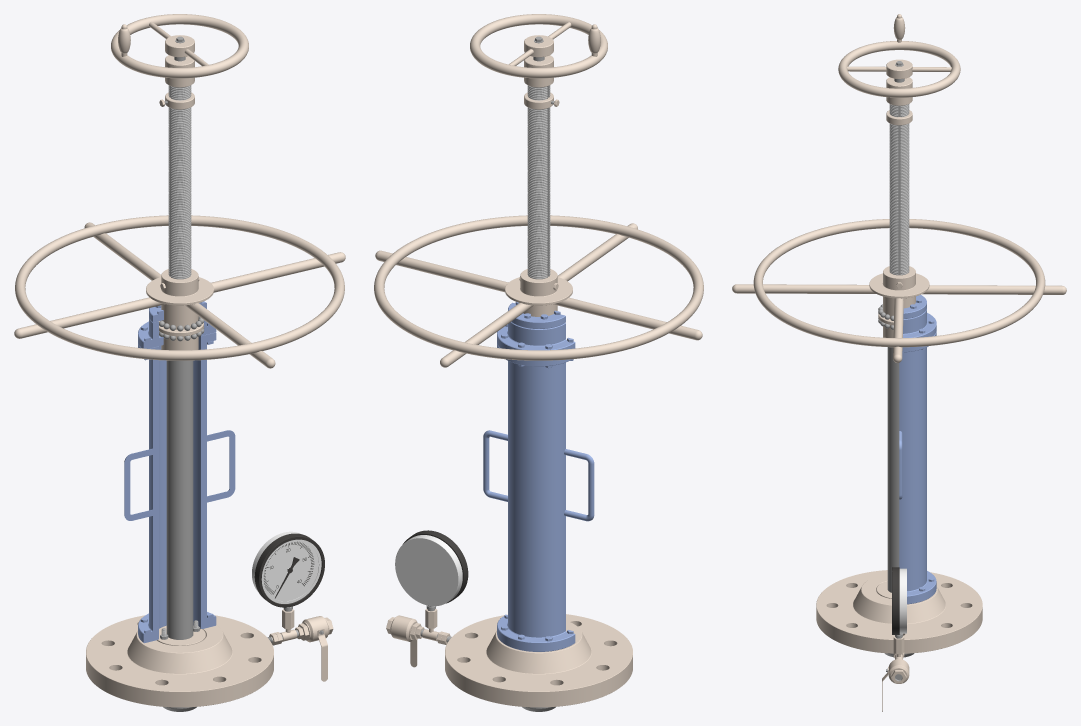
The model's file is puip_007_for_Unity_003.fbx.
3 views of the same model, side by side, from view 1: azimuth 30°, elevation 25°; view 2: azimuth 150°, elevation 25°; view 3: azimuth 270°, elevation 25° (orthographic). The views are drawn at different scales.
Parts seen in each view (by area): view 1: Circle009, Circle006, Circle020, Circle019, Line001, Circle002.001, Circle002.003; view 2: Circle020, Circle006, Circle009, Circle019, Line001, Circle002.001, Circle002.003; view 3: Circle009, Circle006, Circle020, Circle002.001, Line001, Circle019.
Part boxes in pixels (x1,y1,x2,y2): Circle009: (86, 360, 273, 707); Circle006: (14, 215, 345, 368); Circle020: (124, 301, 235, 643); Circle019: (252, 531, 333, 681); Line001: (168, 85, 191, 279); Circle002.001: (111, 14, 248, 78); Circle002.003: (165, 55, 194, 87); Circle020: (483, 302, 594, 651); Circle006: (374, 215, 703, 367); Circle009: (445, 614, 632, 707); Circle019: (386, 530, 468, 667); Line001: (527, 85, 550, 279); Circle002.001: (470, 14, 607, 78); Circle002.003: (524, 55, 553, 87); Circle009: (816, 347, 982, 653); Circle006: (732, 219, 1066, 362); Circle020: (899, 295, 936, 604); Circle002.001: (838, 14, 960, 97); Line001: (889, 104, 909, 275); Circle019: (882, 567, 909, 711).
Bounding box in the file's own units: 194 × 393 × 194.
